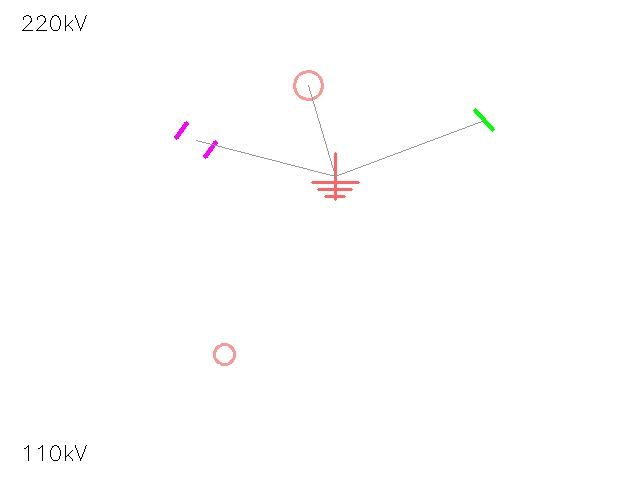busbar: (468, 104, 500, 136)
capacitor: (167, 111, 225, 169)
fuse: (279, 56, 337, 114), (204, 334, 244, 374)
ground: (312, 153, 358, 199)
